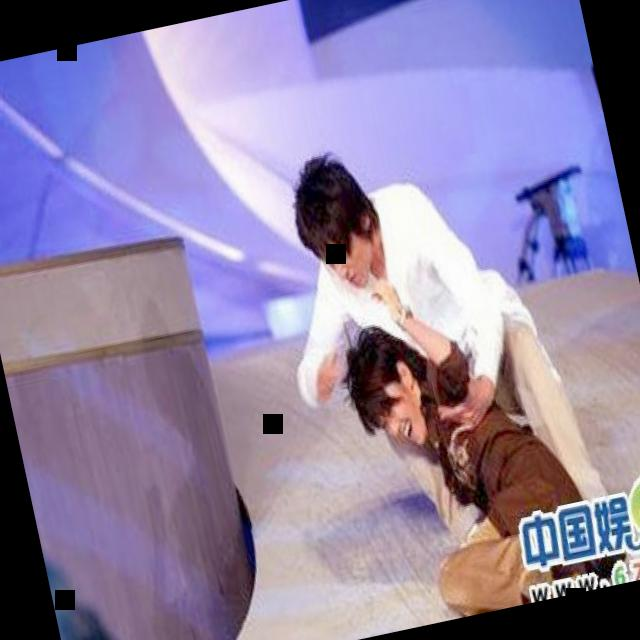Fall-Detected: (316, 262, 630, 634)
